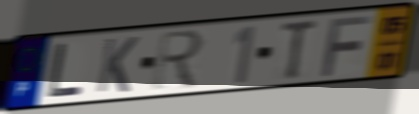1: (232, 24, 257, 86)
F: (319, 13, 375, 78)
K: (93, 35, 141, 95)
L: (45, 41, 86, 101)
R: (150, 27, 206, 92)
T: (279, 17, 321, 82)
